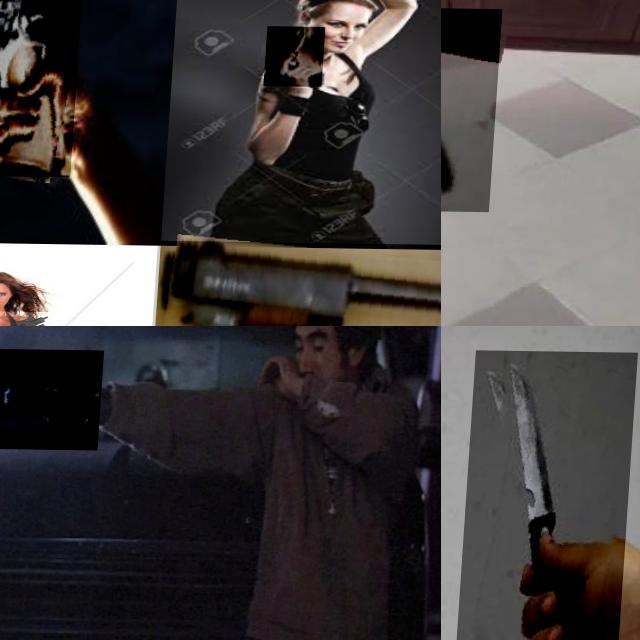-: (457, 349, 638, 640), (441, 5, 557, 210)
gun-knife-thesis - v11 Yolov5 augmented: (146, 239, 441, 326), (0, 0, 111, 176), (0, 348, 106, 450), (266, 25, 326, 86), (273, 0, 363, 25), (4, 310, 54, 326), (0, 310, 20, 326)
